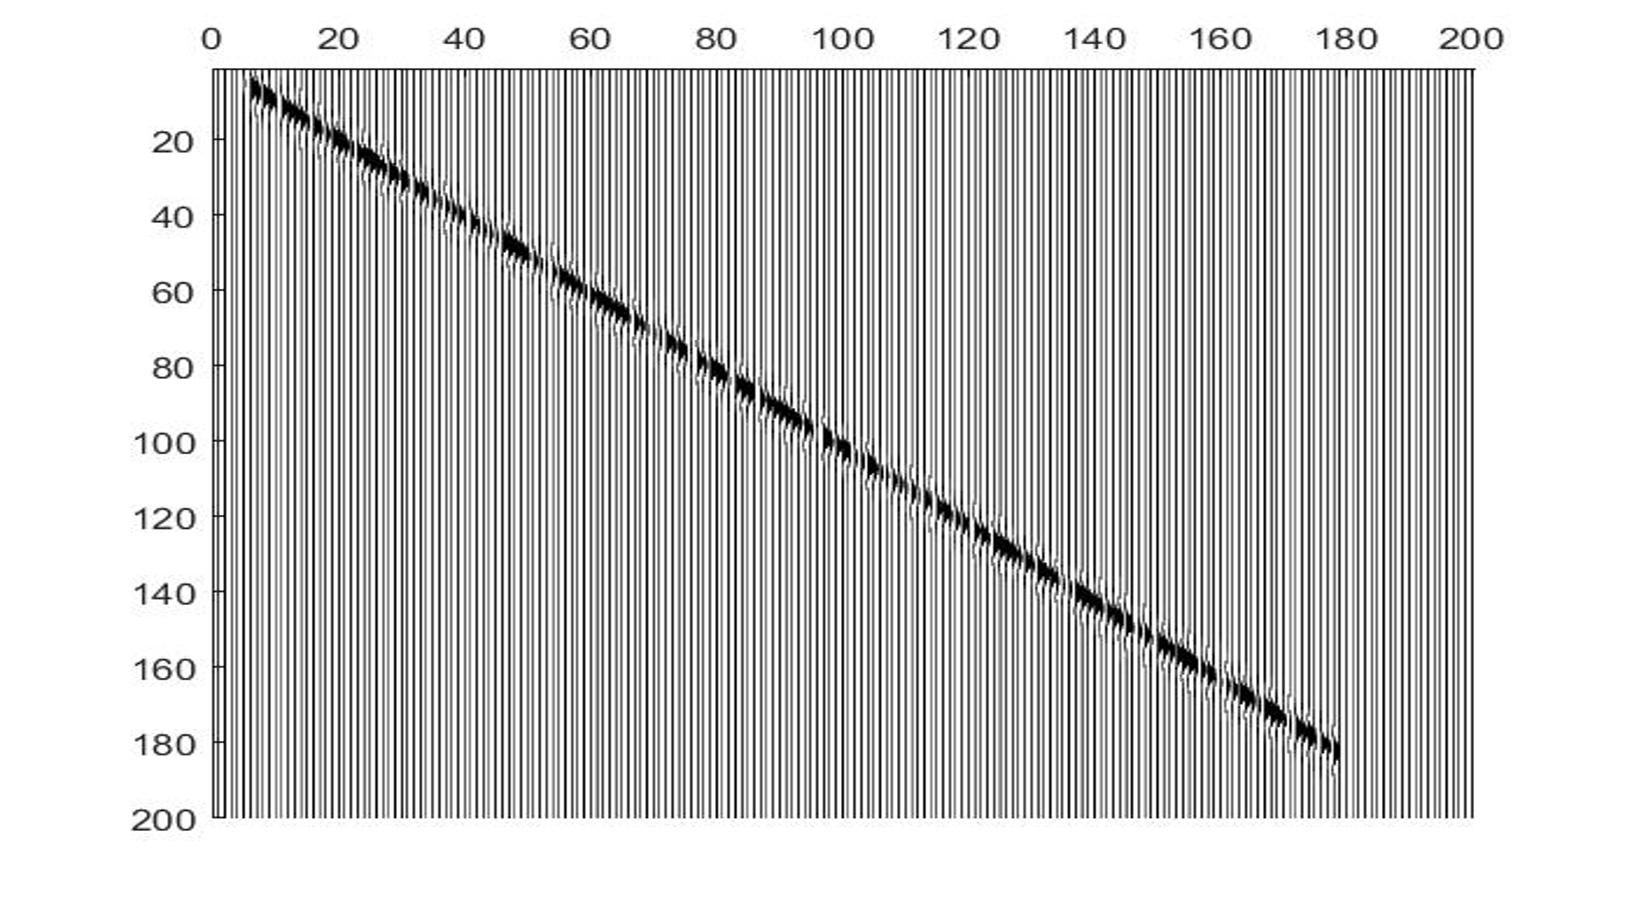signal: (243, 68, 1357, 780)
